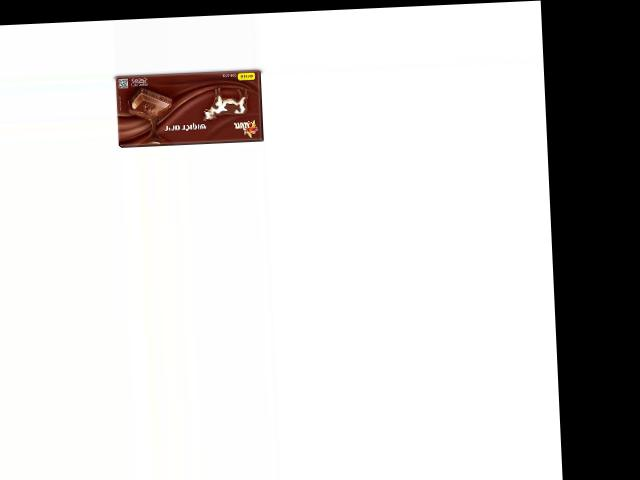chocolate: (117, 68, 267, 148)
